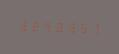five: (77, 20, 88, 35)
four: (41, 19, 52, 33)
seven: (89, 21, 100, 35)
three: (17, 18, 28, 32), (65, 20, 76, 34)
two: (29, 18, 40, 33)
zero: (53, 19, 64, 34)
